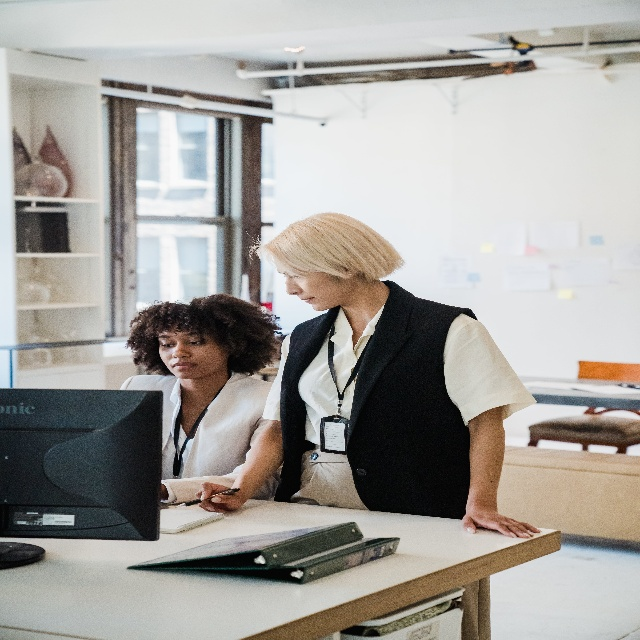Sin_guantes: (461, 504, 544, 538), (195, 482, 244, 513)
